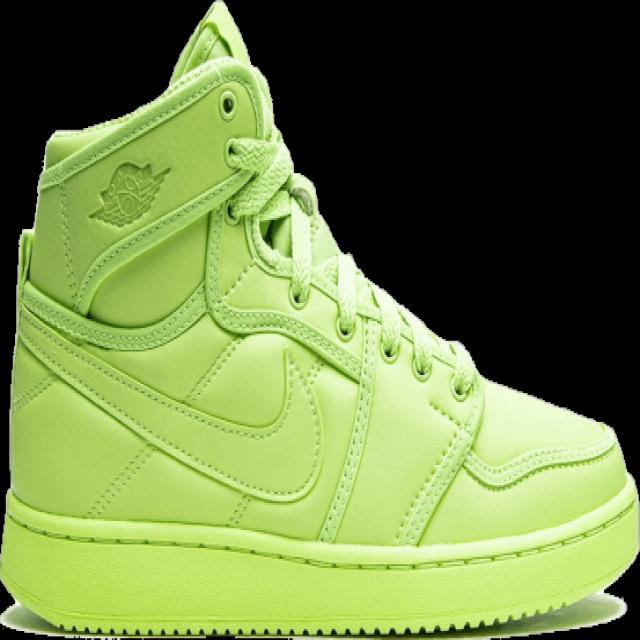J1_InsoleChar: (0, 0, 638, 638)
J1_ShoeLogo: (87, 159, 171, 229)
J1_StitchPattern: (19, 132, 484, 547), (211, 134, 382, 542), (213, 133, 458, 385), (16, 303, 298, 504), (4, 491, 637, 573), (221, 132, 362, 335), (314, 312, 380, 544), (393, 410, 479, 546), (460, 437, 619, 490), (81, 441, 158, 520)
